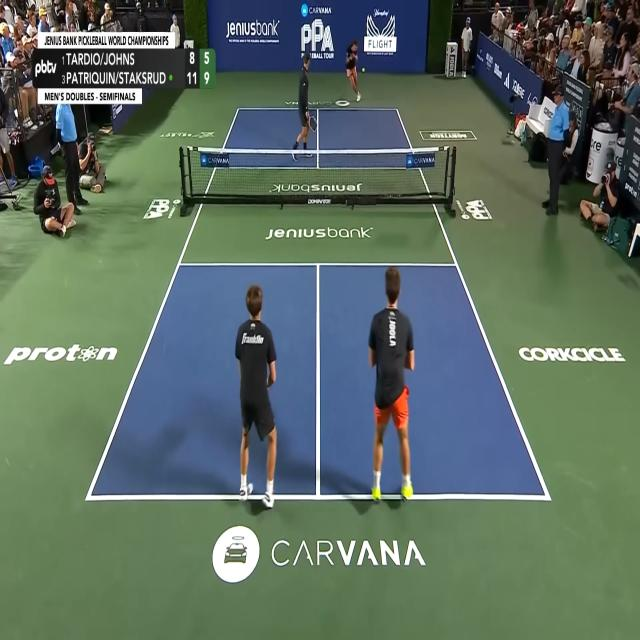ball: (361, 66, 366, 74)
